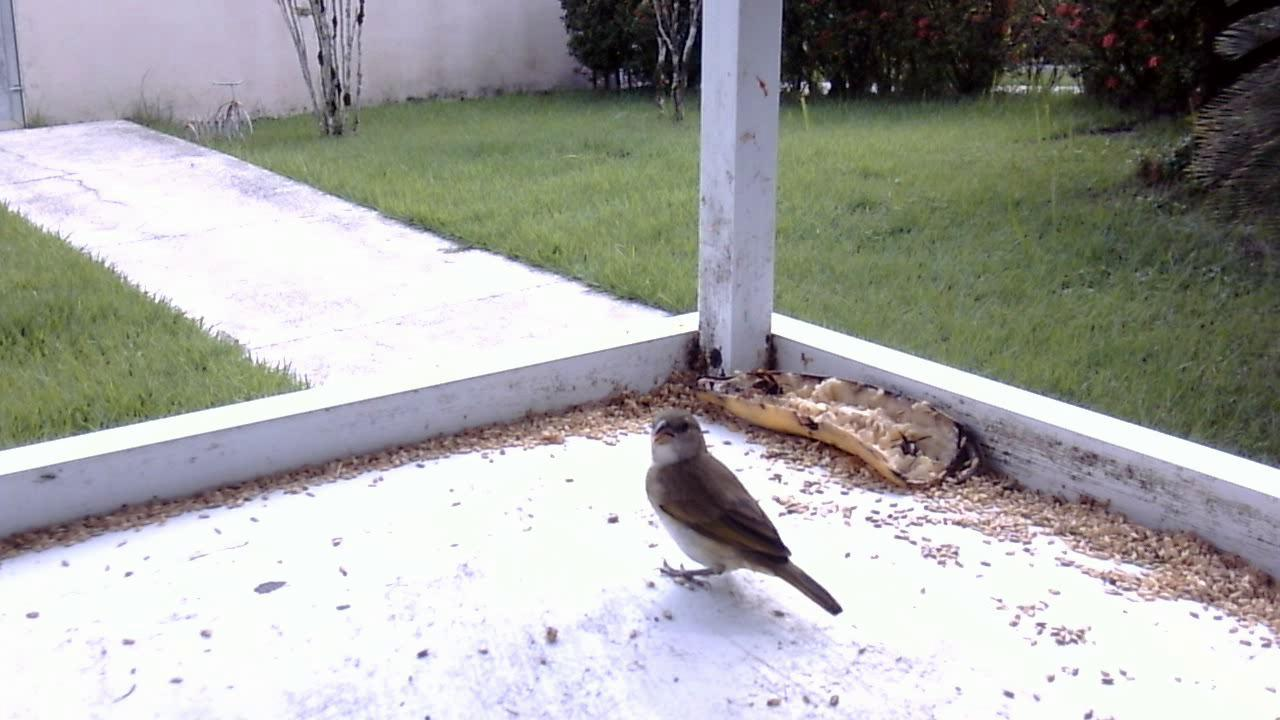canario_do_amazonas: (635, 408, 849, 622)
